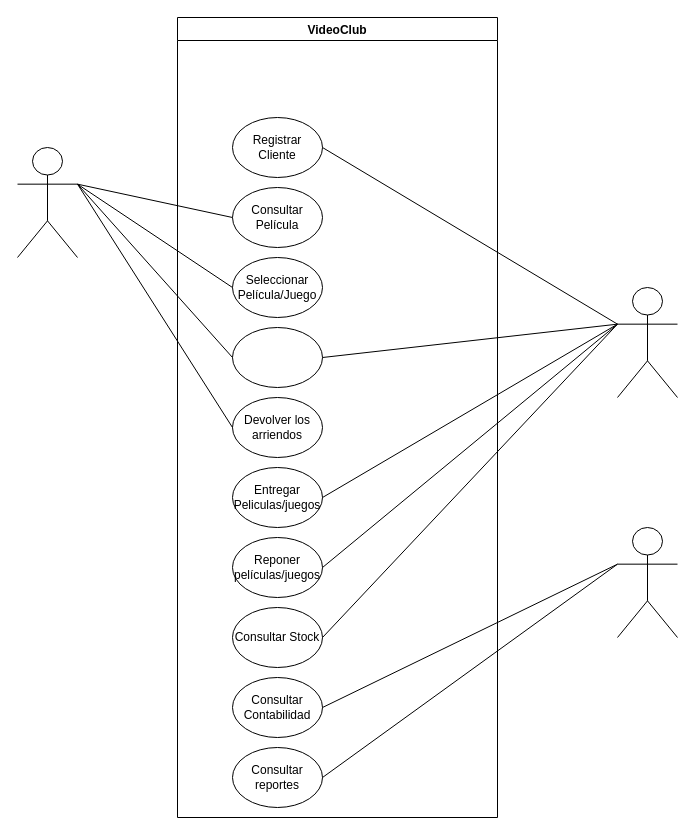
Some shapes in this 695 by 835 pixel diagram are drawn without their labels. Each missing label, with the centre of its shape:
"Cliente" goes at point (47, 202).
"Empleado" goes at point (647, 342).
"Gerente" goes at point (647, 582).
"Pagar por los arriendos" goes at point (277, 357).
